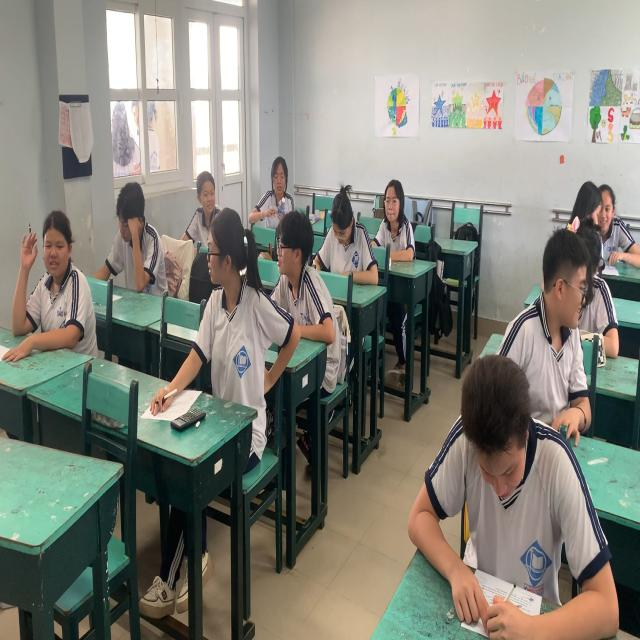cheating: (203, 207, 280, 415), (520, 226, 594, 418), (272, 208, 330, 346), (570, 174, 605, 230)
not_cheating: (417, 356, 605, 639), (18, 200, 89, 336), (110, 172, 170, 290), (320, 181, 370, 283), (370, 174, 420, 274), (246, 144, 298, 228), (597, 174, 640, 273), (183, 168, 226, 228)
